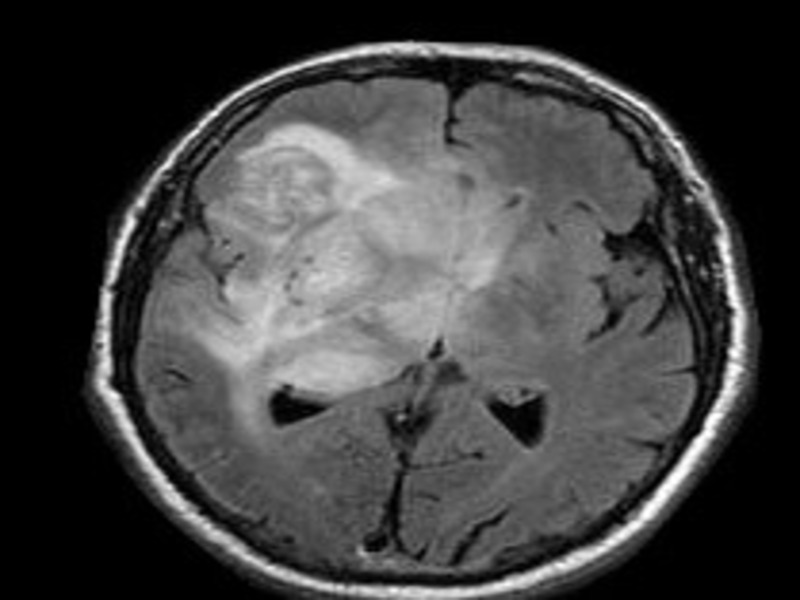tumor: (245, 126, 417, 342)
